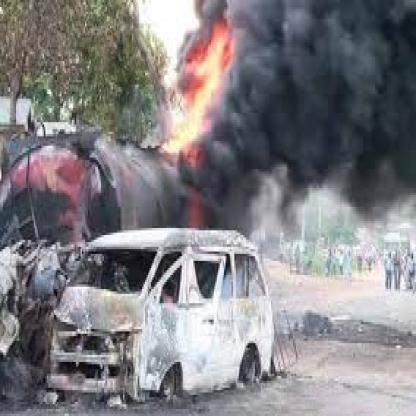fire: (94, 4, 347, 242)
